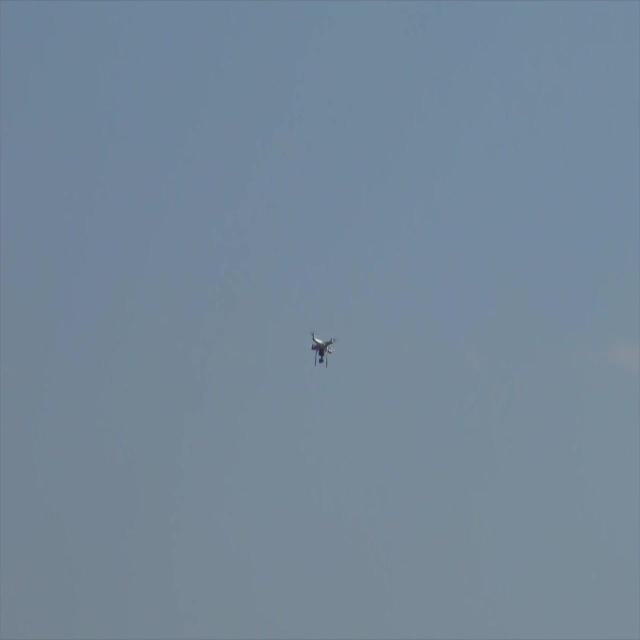drone: (307, 327, 339, 375)
